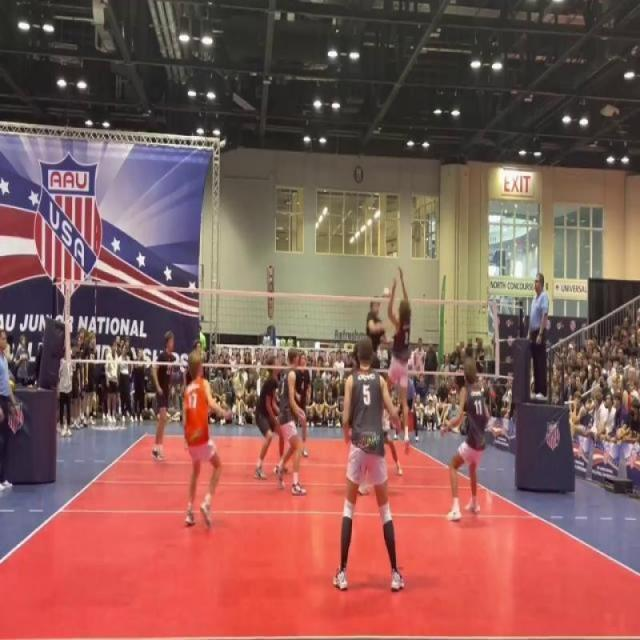volleyball: (381, 286, 392, 298)
